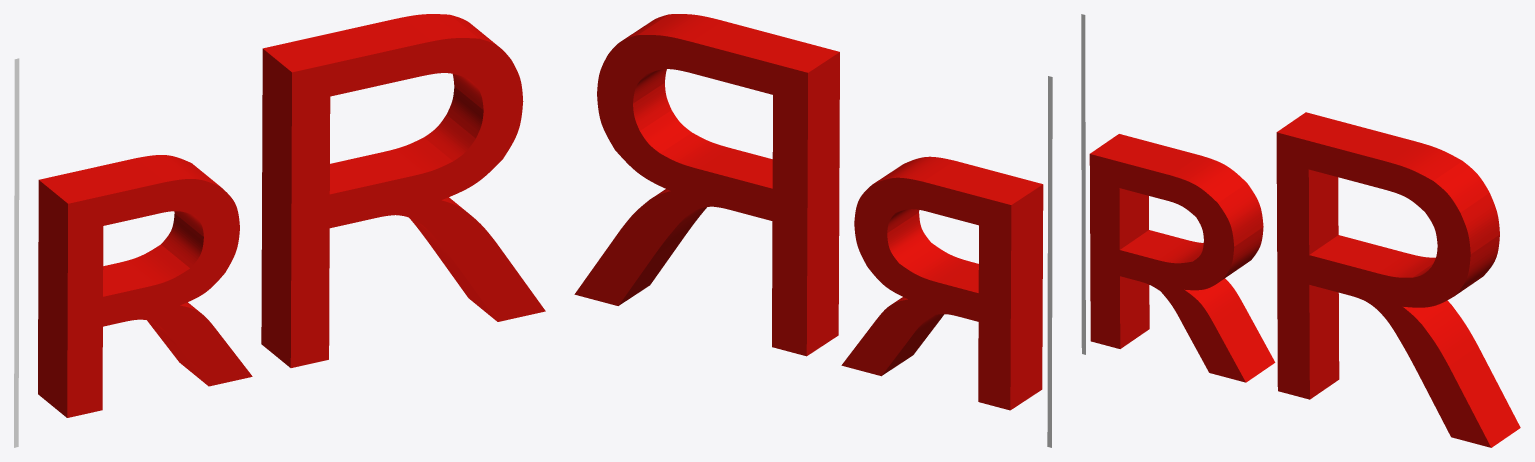
3 renders of one model, left to right at view 1: azimuth 30°, elevation 25°; view 2: azimuth 150°, elevation 25°; view 3: azimuth 330°, elevation 25°, orthographic. The views are drawn at different scales.
Parts seen in each view (by area): view 1: Mesh_0.036, Плоскость; view 2: Mesh_0.036, Плоскость; view 3: Mesh_0.036, Плоскость.
Boxes of the visible parts, <box> form: Mesh_0.036: <box>38,14,545,417</box>; Плоскость: <box>14,58,19,447</box>; Mesh_0.036: <box>574,14,1043,410</box>; Плоскость: <box>1047,76,1052,447</box>; Mesh_0.036: <box>1089,112,1520,447</box>; Плоскость: <box>1081,14,1085,354</box>.
Size of the model in its own units: 12.67 by 9.38 by 1.85.
